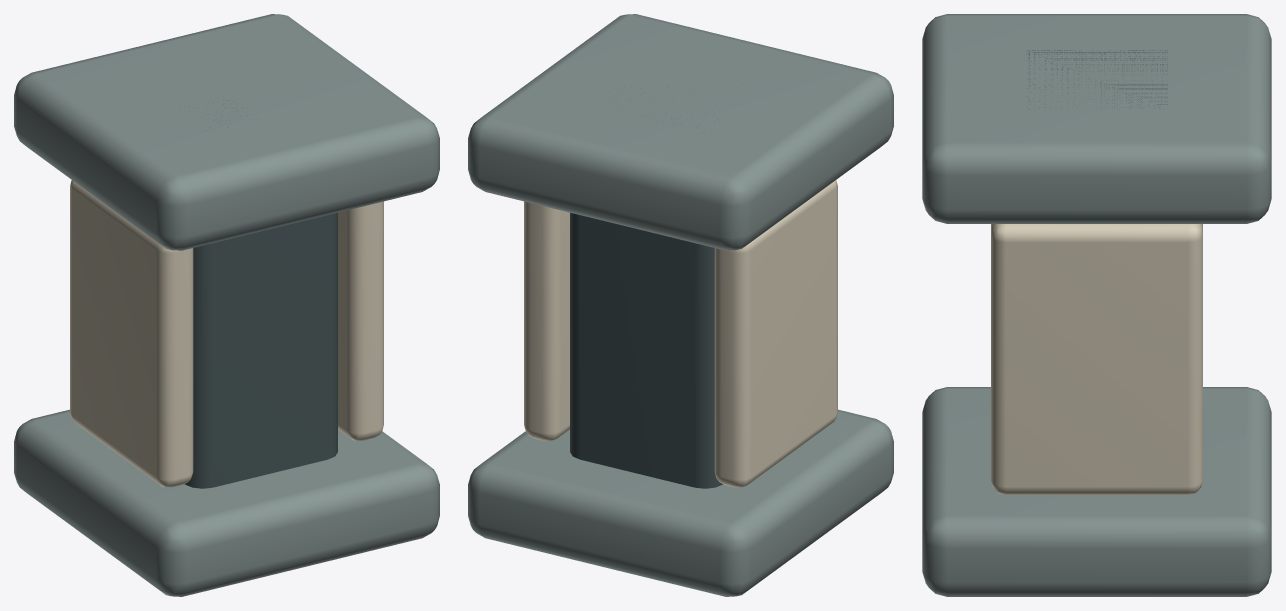
File: support-riser-040.glb
The picture shows the model from 3 angles, left to right: view 1: azimuth 30°, elevation 25°; view 2: azimuth 150°, elevation 25°; view 3: azimuth 270°, elevation 25°; orthographic projection. The views are drawn at different scales.
Parts seen in each view (by area): view 1: support-riser-040 / 05 • brushed titanium, support-riser-040 / 01 • warm porcelain paint, support-riser-040 / 06 • dark anodized frame; view 2: support-riser-040 / 05 • brushed titanium, support-riser-040 / 01 • warm porcelain paint, support-riser-040 / 06 • dark anodized frame; view 3: support-riser-040 / 05 • brushed titanium, support-riser-040 / 01 • warm porcelain paint, support-riser-040 / 06 • dark anodized frame.
Boxes of the visible parts, x1,y1,x2,y2 form: support-riser-040 / 05 • brushed titanium: (14, 14, 439, 596); support-riser-040 / 01 • warm porcelain paint: (70, 180, 383, 487); support-riser-040 / 06 • dark anodized frame: (185, 98, 337, 488); support-riser-040 / 05 • brushed titanium: (468, 14, 893, 596); support-riser-040 / 01 • warm porcelain paint: (524, 180, 837, 487); support-riser-040 / 06 • dark anodized frame: (570, 87, 722, 488); support-riser-040 / 05 • brushed titanium: (922, 14, 1271, 596); support-riser-040 / 01 • warm porcelain paint: (991, 224, 1202, 495); support-riser-040 / 06 • dark anodized frame: (1026, 50, 1167, 108).
Size of the model in its own units: 0.28 by 0.4 by 0.28.
